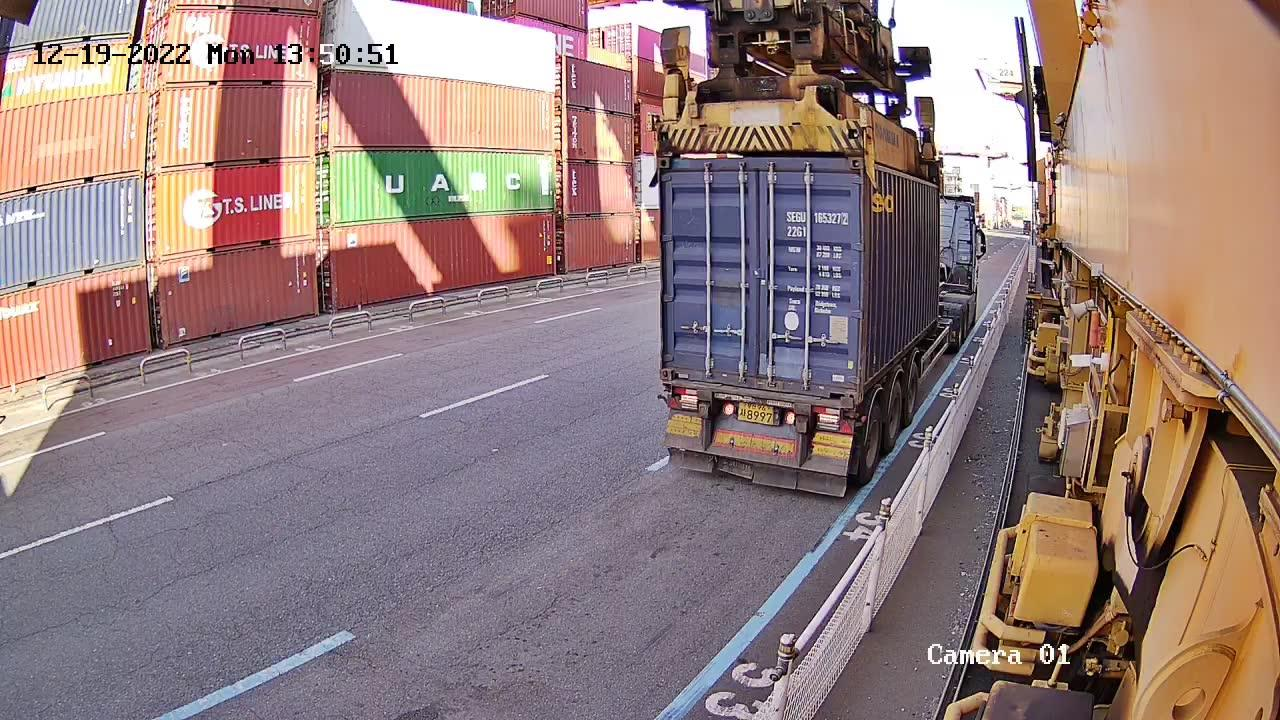Chassis: (661, 381, 856, 417)
Cone: (845, 407, 859, 420), (662, 382, 672, 395)
Hole_L: (660, 354, 691, 381)
Hole_R: (824, 372, 858, 403)
Tire: (861, 408, 883, 479), (886, 386, 902, 445), (905, 364, 919, 423)
